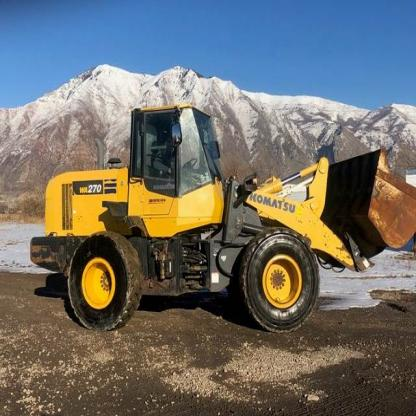bull_dozer/loader/grader: (27, 98, 415, 341)
